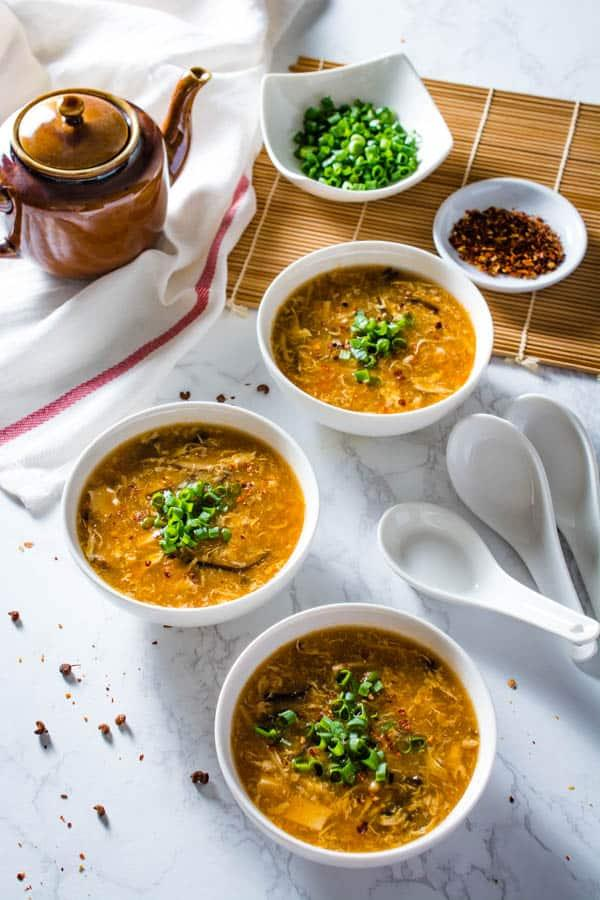Braised Crucian Carp: (213, 605, 496, 869), (61, 399, 317, 624), (253, 239, 491, 432)
